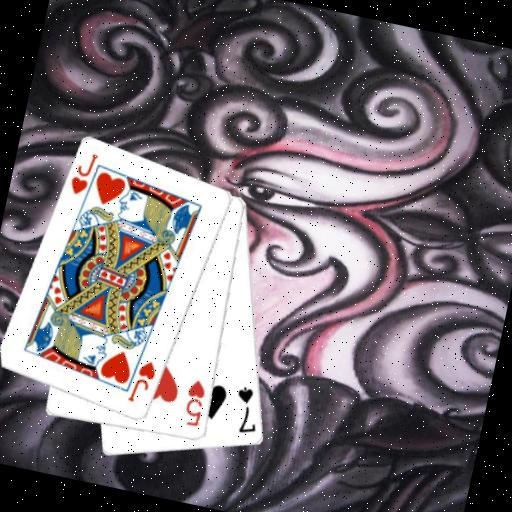5H: (178, 375, 210, 429)
7S: (226, 382, 266, 438)
JH: (124, 355, 160, 407), (65, 147, 100, 199)
